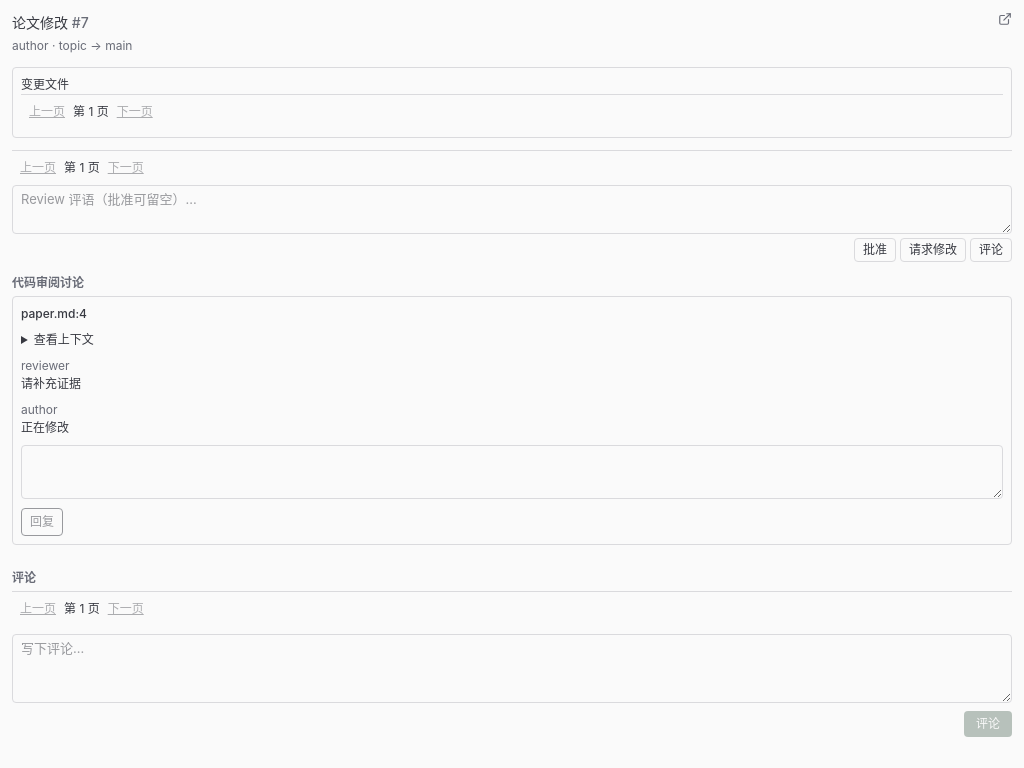
Test: reply within the selected PR review discussion › keeps reply text after an API error and offers a deliberate retry
Type "请保留这段回复" into the text box named "回复此讨论" at (512, 472), box top-left (21, 445), bottom-right (1003, 499)
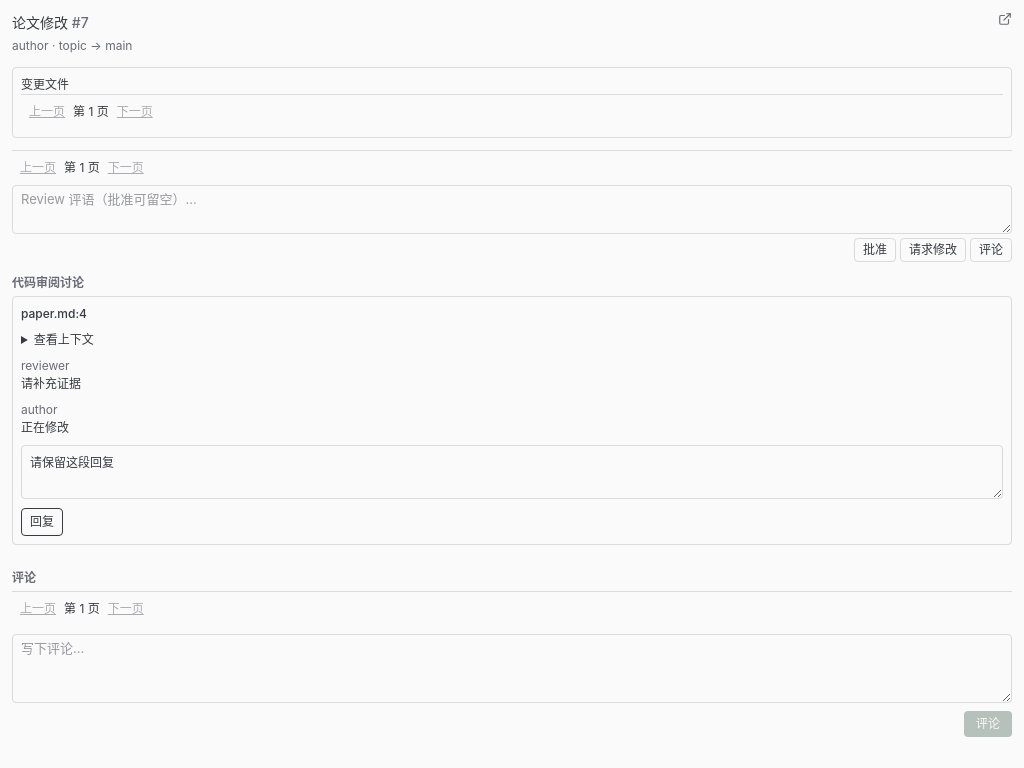
Click the button "回复" at (42, 522), box top-left (21, 508), bottom-right (63, 536)
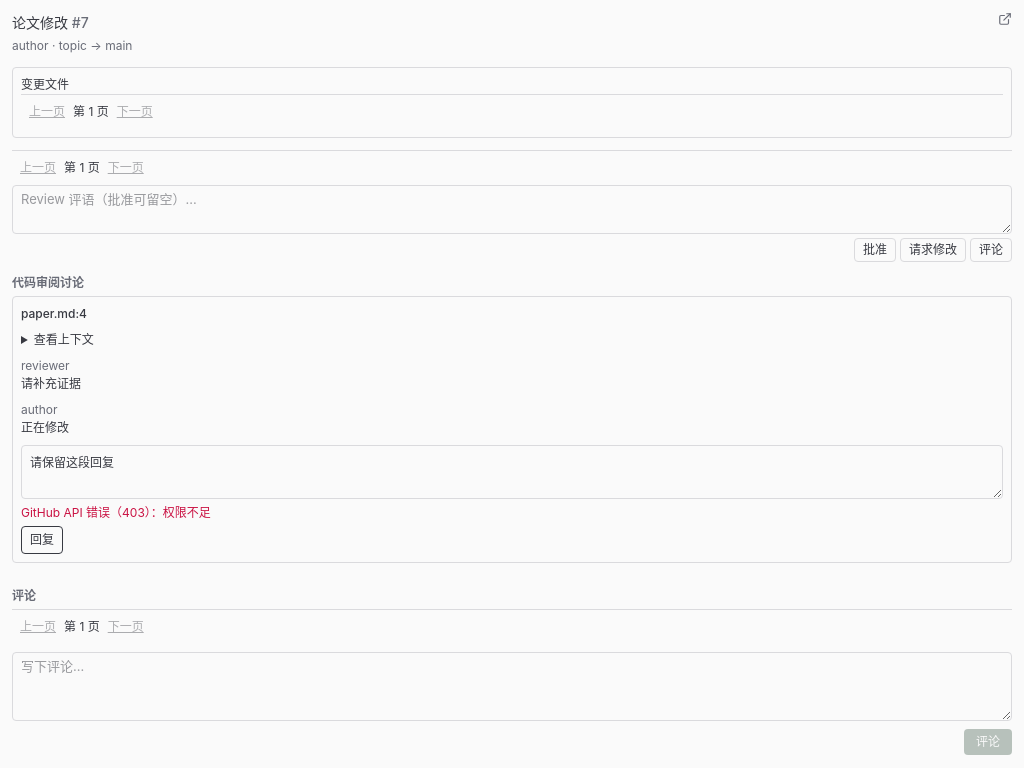
Check: the button "回复" is enabled, box top-left (21, 526), bottom-right (63, 554)
Check: the message shows "403", box top-left (21, 505), bottom-right (211, 520)
